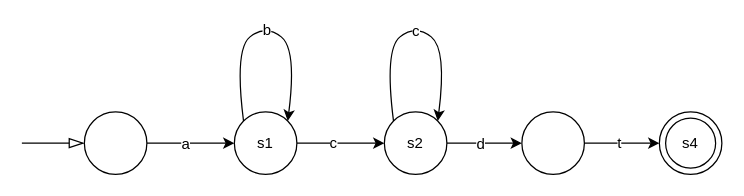
This 744x196 diagram has some shape labels left out. Each missing label, with the centre of its shape:
"s0" goes at [115,142].
"s3" goes at [552,142].
